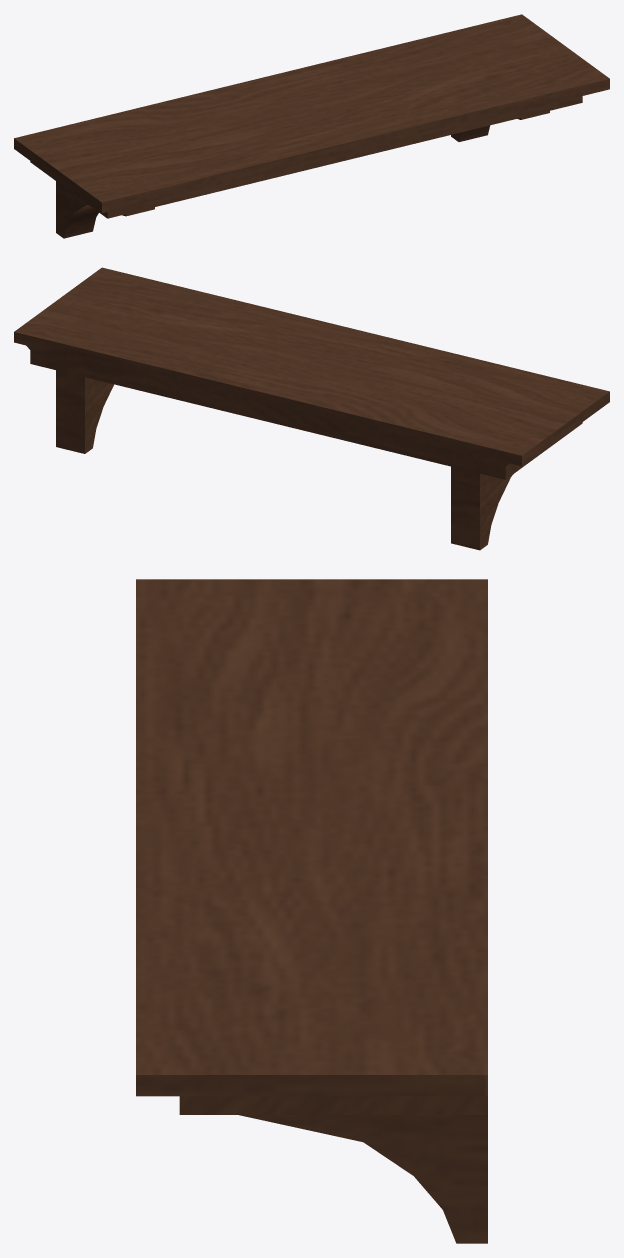
The model's file is wallShelf.fbx.
The picture shows the model from 3 angles, top to bottom: view 1: azimuth 30°, elevation 25°; view 2: azimuth 150°, elevation 25°; view 3: azimuth 270°, elevation 25°; orthographic projection. The views are drawn at different scales.
Visible parts, largest first — view 1: wallShelf; view 2: wallShelf; view 3: wallShelf.
Part boxes in pixels (bbox=[...]): wallShelf: bbox=[14, 14, 609, 238]; wallShelf: bbox=[14, 267, 609, 550]; wallShelf: bbox=[136, 579, 487, 1243].
Size of the model in its own units: 100 by 19.73 by 30.
